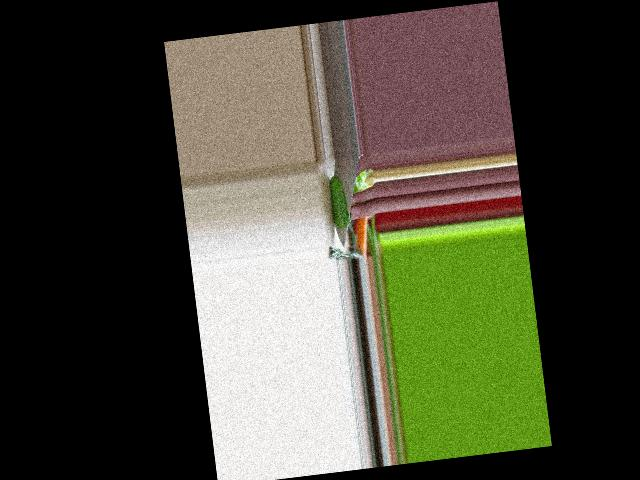cucumber: (327, 175, 349, 229)
